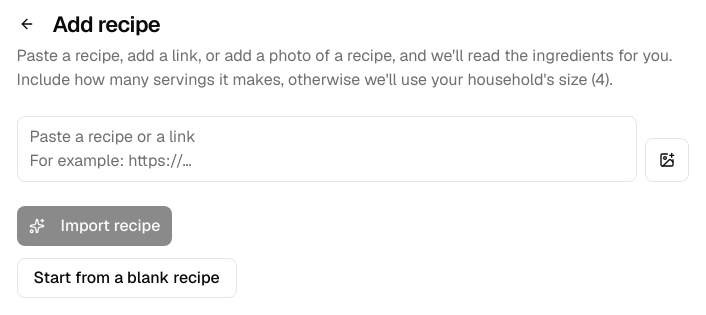
Scenario: RecipeImportClient cancel › aborts request and restores textarea on cancel
Type "https://example.com/recipe" into the text box at (326, 149), box [16,116,636,182]
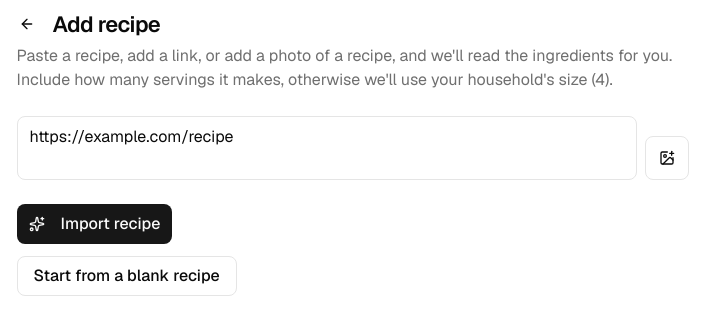
Click the button "Import recipe" at (94, 224), box [16,204,172,244]
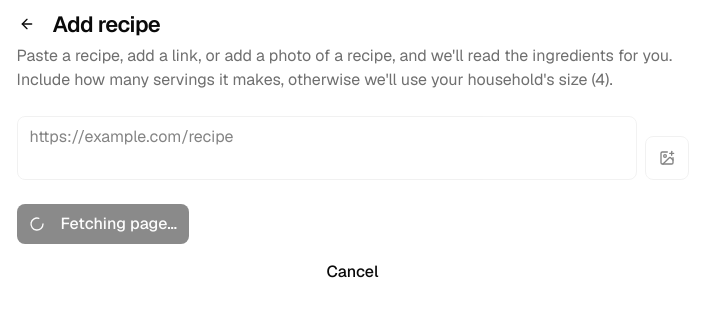
// Click cancel
Click the button "Cancel" at (352, 272), box [16,256,688,288]
Wait 200 ms
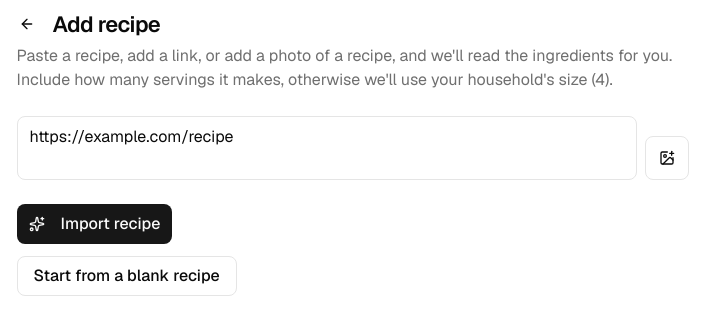
Expected: the text box is enabled, [16,116,636,180]
Expected: the button "Cancel" is gone
Expected: the link "Start from a blank recipe" is shown, [16,256,237,296]
